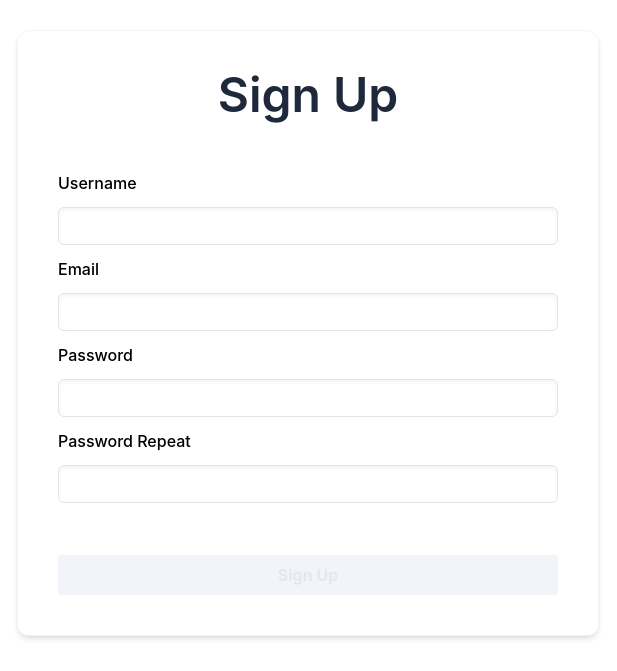
Sign Up Page › interactions › displays Password cannot be null for password
This screenshot has width=617, height=671.
Type "user1" into the field labelled "Username" at (308, 226), box top-left (58, 207), bottom-right (558, 245)
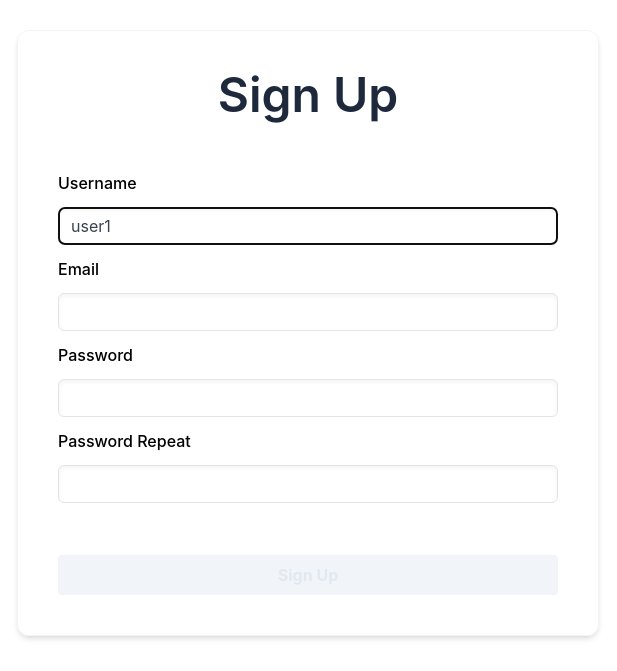
Type "224f@gmail.com" into the field labelled "Email" at (308, 312), box top-left (58, 293), bottom-right (558, 331)
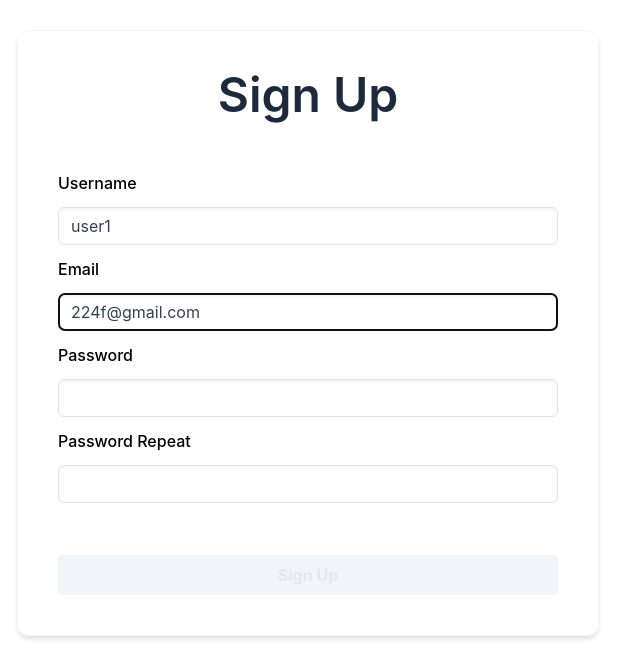
Type "Password" into the password field labelled "Password" at (308, 398), box top-left (58, 379), bottom-right (558, 417)
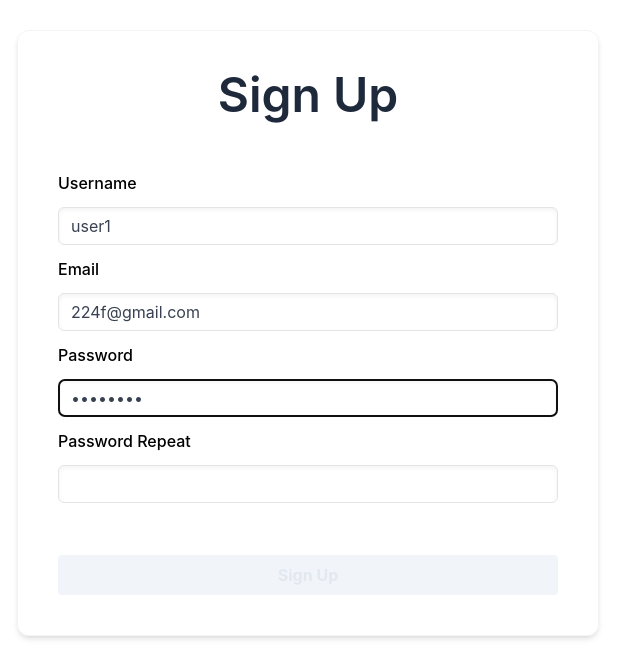
Type "Password" into the password field labelled "Password Repeat" at (308, 484), box top-left (58, 465), bottom-right (558, 503)
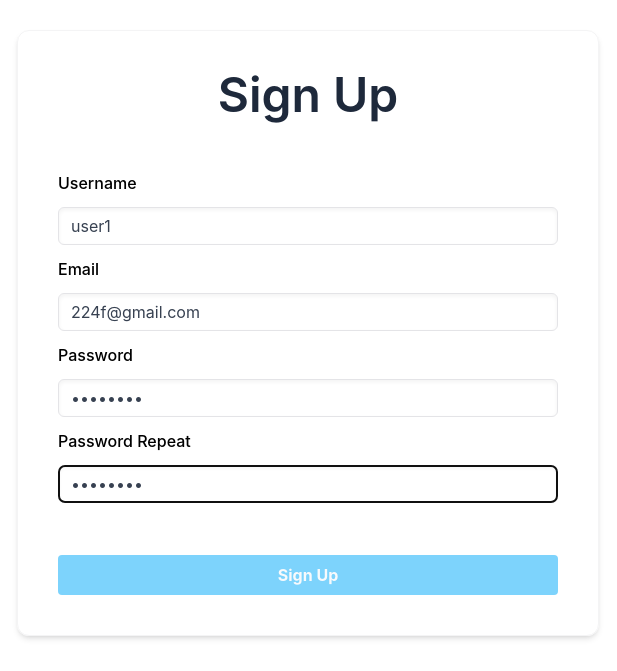
Click the button "Sign Up" at (308, 575), box top-left (58, 555), bottom-right (558, 595)
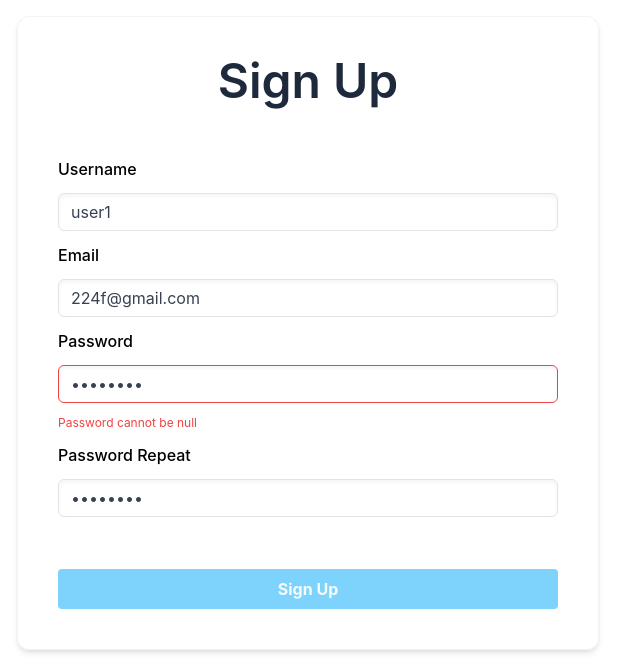
Expected: the text "Password cannot be null" is shown, top-left (58, 415), bottom-right (197, 430)
